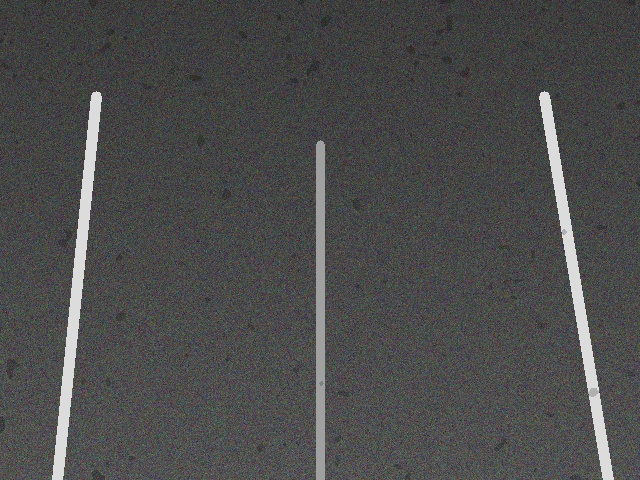D44: (290, 168, 350, 408)
